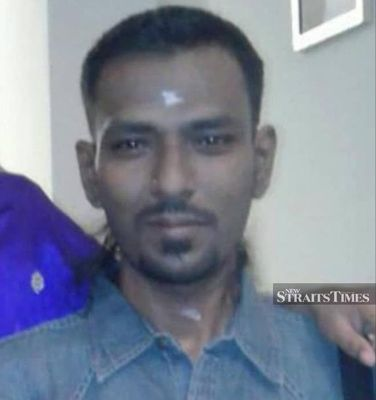Indian: (97, 70, 253, 275)
